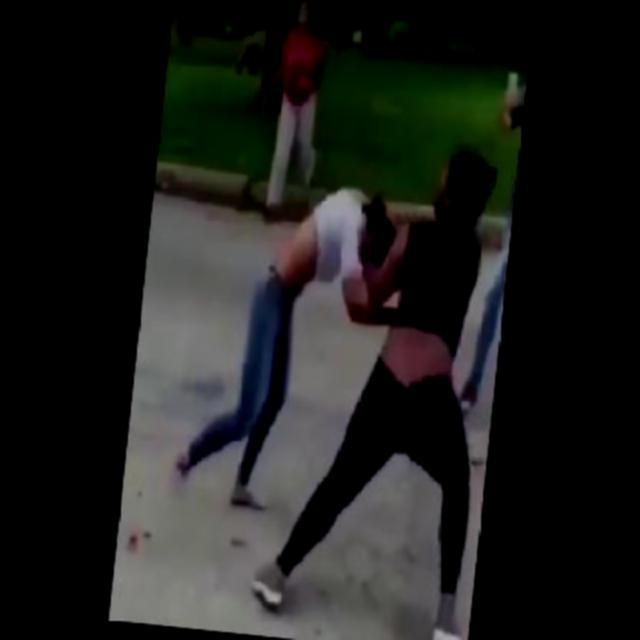fight: (214, 136, 506, 638)
